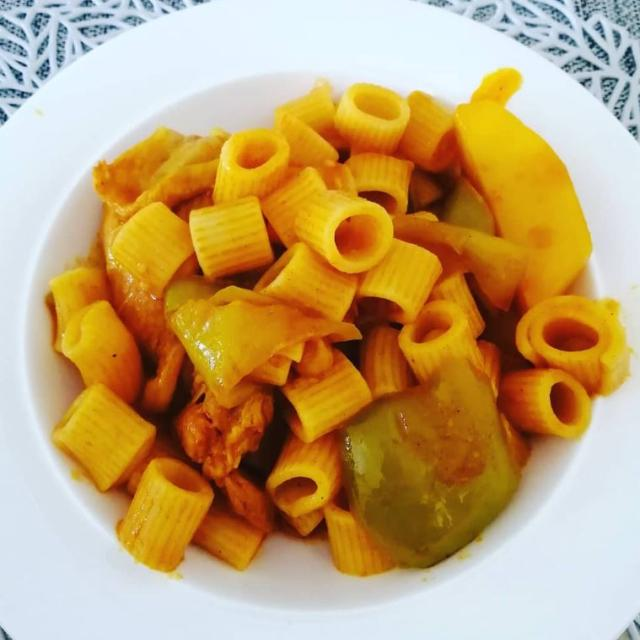Pasta: (58, 47, 587, 577)
